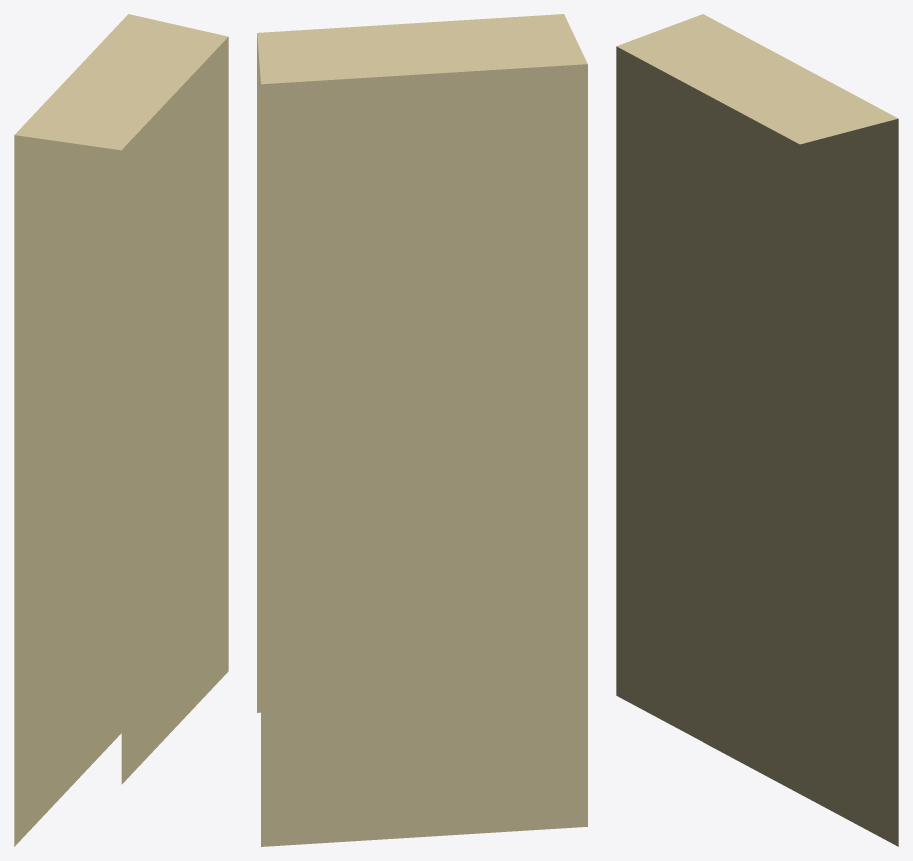
File: wall16.fbx
3 views of the same model, side by side, from view 1: azimuth 30°, elevation 25°; view 2: azimuth 150°, elevation 25°; view 3: azimuth 270°, elevation 25° (orthographic). The views are drawn at different scales.
Parts seen in each view (by area): view 1: duvar.021; view 2: duvar.021; view 3: duvar.021.
Part boxes in pixels (x1,y1,x2,y2): duvar.021: (14,14,228,846); duvar.021: (257,14,587,846); duvar.021: (616,14,898,846).
Size of the model in its own units: 17.29 by 44.99 by 15.81.
